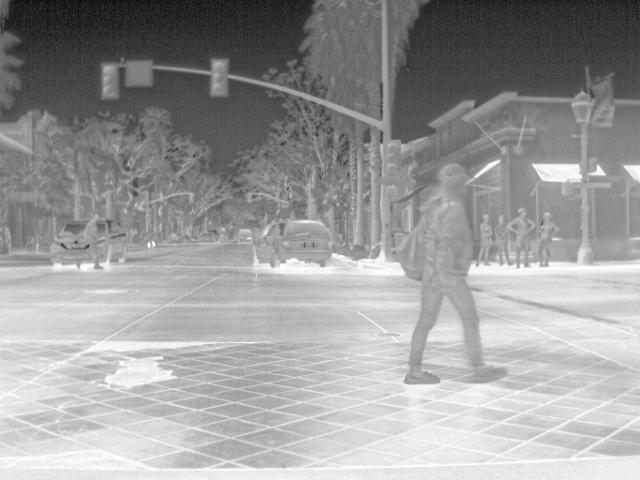car: (253, 218, 335, 268), (49, 216, 88, 264), (101, 215, 127, 265), (235, 224, 257, 244)
person: (404, 161, 511, 388), (73, 215, 105, 270), (507, 208, 534, 267), (533, 210, 557, 267), (470, 213, 493, 267), (494, 211, 514, 267)
